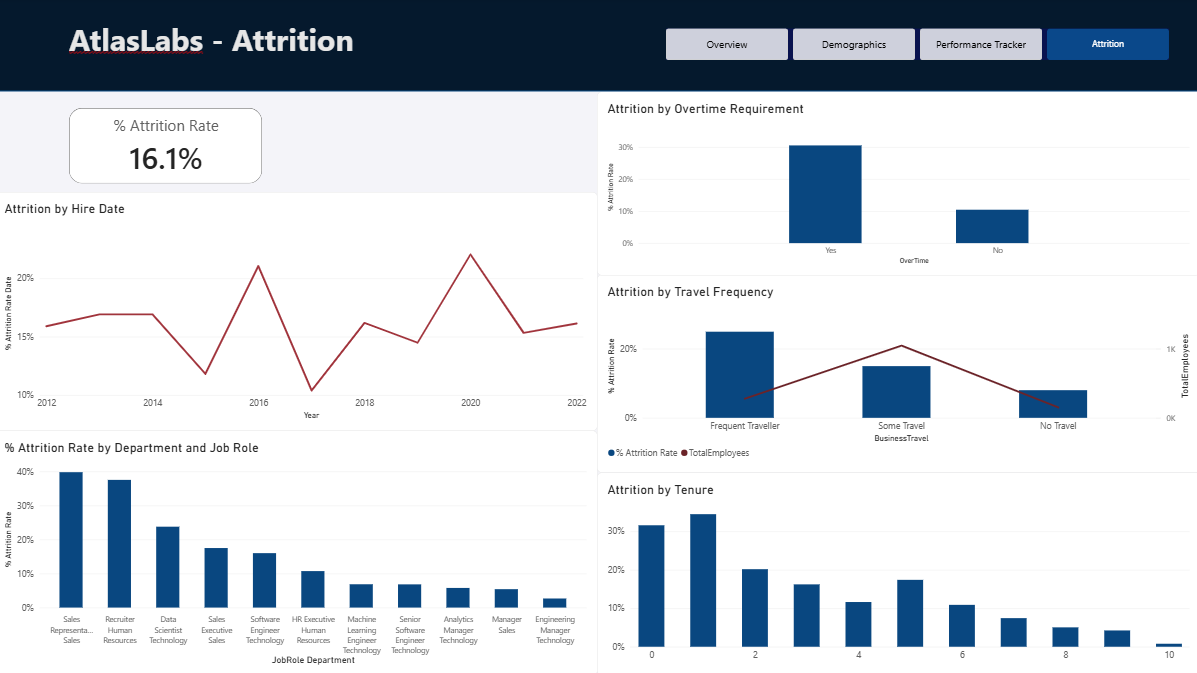

Layout of this report page (visuals, bound fields, positions):
{"tool":"powerbi","page":{"name":"Attrition","canvas":[1920,1080],"ordinal":3},"visuals":[{"type":"cardVisual","fields":{"Data":["_Measures.% Attrition Rate"]},"box":[120,177.5,307.5,120],"z":0},{"type":"columnChart","title":"% Attrition Rate by Department and Job Role","fields":{"Category":["DimEmployee.JobRole","DimEmployee.Department"],"Y":["_Measures.% Attrition Rate"]},"box":[0,690,960,390],"z":1000},{"type":"lineChart","title":"Attrition by Hire Date","fields":{"Category":["DimDate.Date.Variation.Date Hierarchy.Year","DimDate.Date.Variation.Date Hierarchy.Quarter","DimDate.Date.Variation.Date Hierarchy.Month","DimDate.Date.Variation.Date Hierarchy.Day"],"Y":["_Measures.% Attrition Rate Date"]},"box":[0,310,960,380],"z":2000},{"type":"lineClusteredColumnComboChart","title":"Attrition by Travel Frequency","fields":{"Category":["DimEmployee.BusinessTravel"],"Y":["_Measures.% Attrition Rate"],"Y2":["_Measures.TotalEmployees"]},"box":[960,442.5,960,315],"z":3000},{"type":"columnChart","title":"Attrition by Overtime Requirement","fields":{"Category":["DimEmployee.OverTime"],"Y":["_Measures.% Attrition Rate"]},"box":[960,150,960,292.5],"z":4000},{"type":"columnChart","title":"Attrition by Tenure","fields":{"Category":["DimEmployee.YearsAtCompany"],"Y":["_Measures.% Attrition Rate"]},"box":[960,757.5,960,322.5],"z":5000},{"type":"shape","box":[0,0,1920,150],"z":6000},{"type":"textbox","box":[120,32.5,977.5,77.5],"z":7000},{"type":"pageNavigator","box":[1070,50,800,50],"z":7001}]}

Visuals, with their boxes in screenshot pixels (x1, y1, x2, y2), scaled from the page's 1920x1080 canvas onto the 1197x673 screenshot:
cardVisual - _Measures.% Attrition Rate: box=[75, 111, 267, 185]
"% Attrition Rate by Department and Job Role" columnChart: box=[0, 430, 598, 672]
"Attrition by Hire Date" lineChart: box=[0, 193, 598, 430]
"Attrition by Travel Frequency" lineClusteredColumnComboChart: box=[598, 276, 1196, 472]
"Attrition by Overtime Requirement" columnChart: box=[598, 93, 1196, 276]
"Attrition by Tenure" columnChart: box=[598, 472, 1196, 672]
shape: box=[0, 0, 1196, 93]
textbox: box=[75, 20, 684, 69]
pageNavigator: box=[667, 31, 1166, 62]
